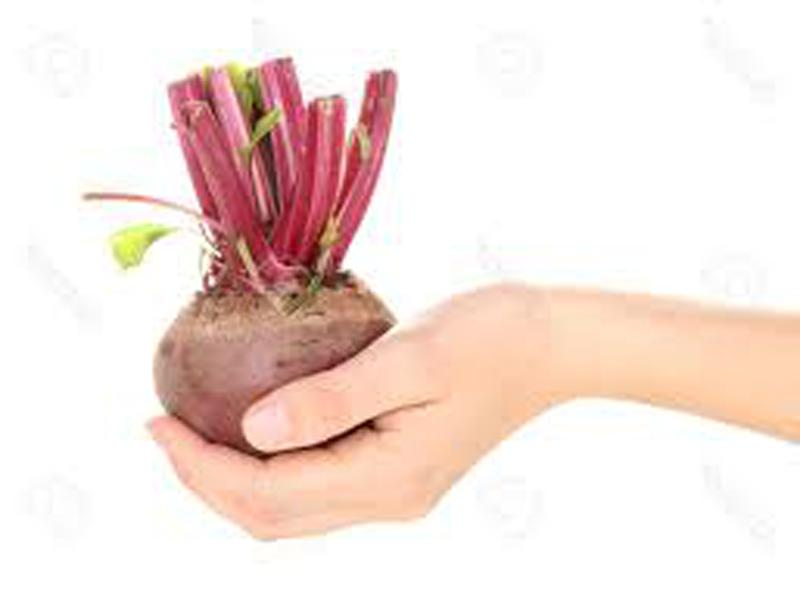Beet: (80, 58, 394, 459)
